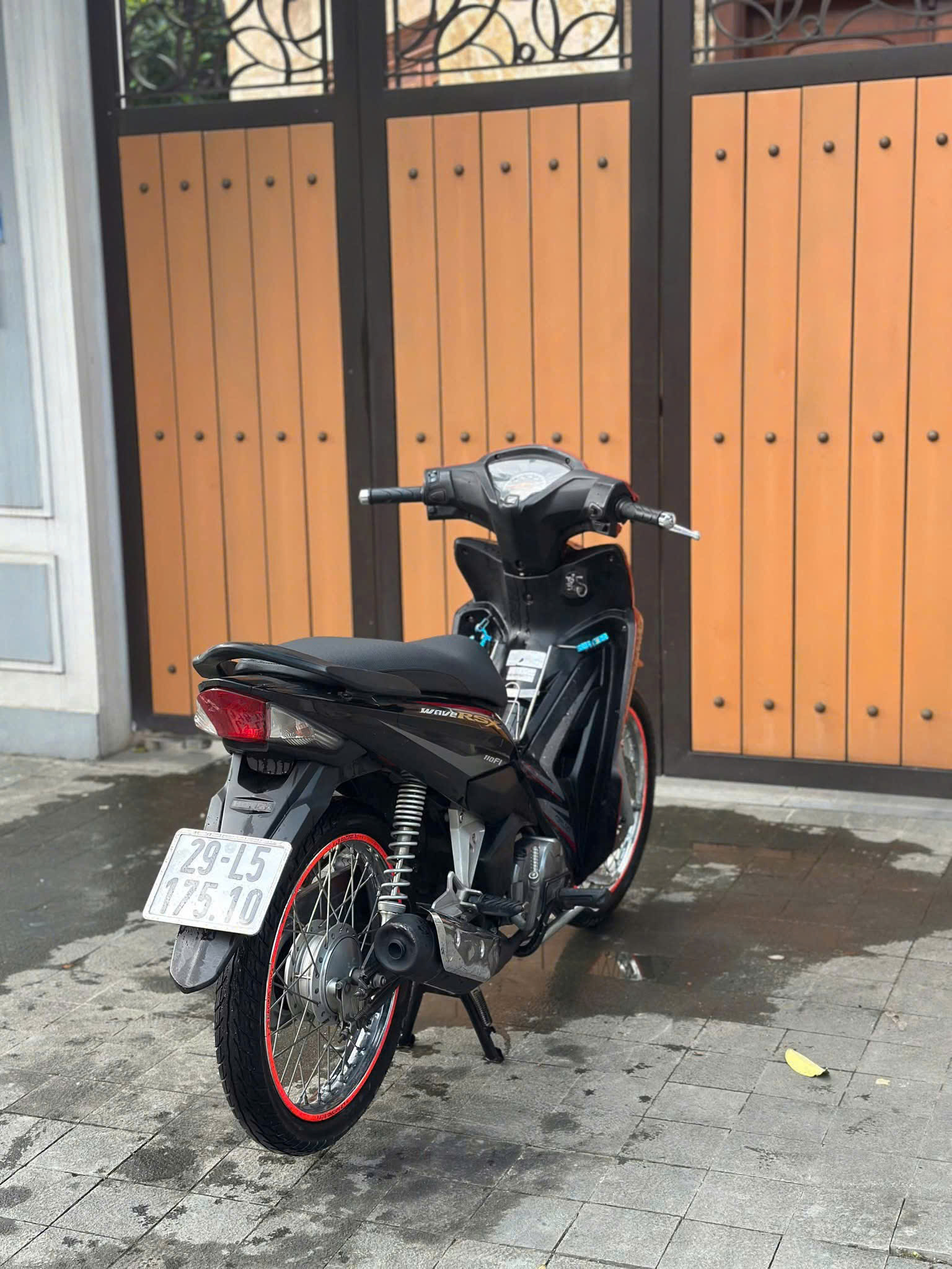Bien-so: (141, 825, 287, 937)
